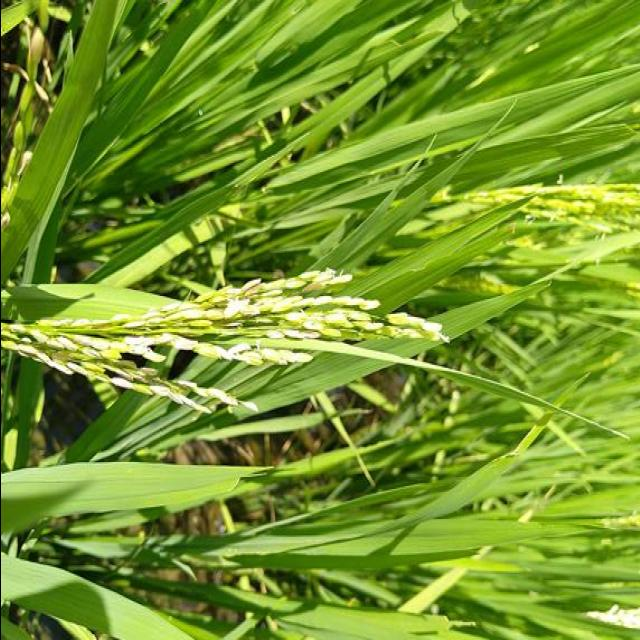Panicle Blight: (6, 268, 380, 413)
